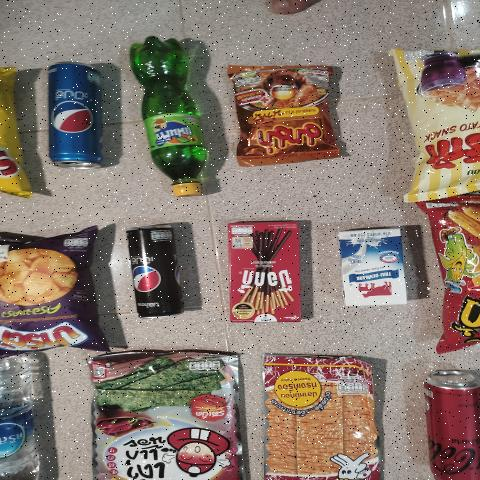bento_red: (258, 350, 384, 480)
coke_red: (426, 367, 480, 480)
fanta_green: (124, 33, 212, 204)
mama: (227, 66, 337, 165)
party_purple: (0, 242, 100, 346)
pepsi_black: (128, 232, 185, 317)
pepsi_blue: (44, 70, 106, 168)
pokki: (233, 226, 303, 319)
taokaenoi: (92, 359, 237, 480)
thai_denmark: (336, 229, 416, 306)
